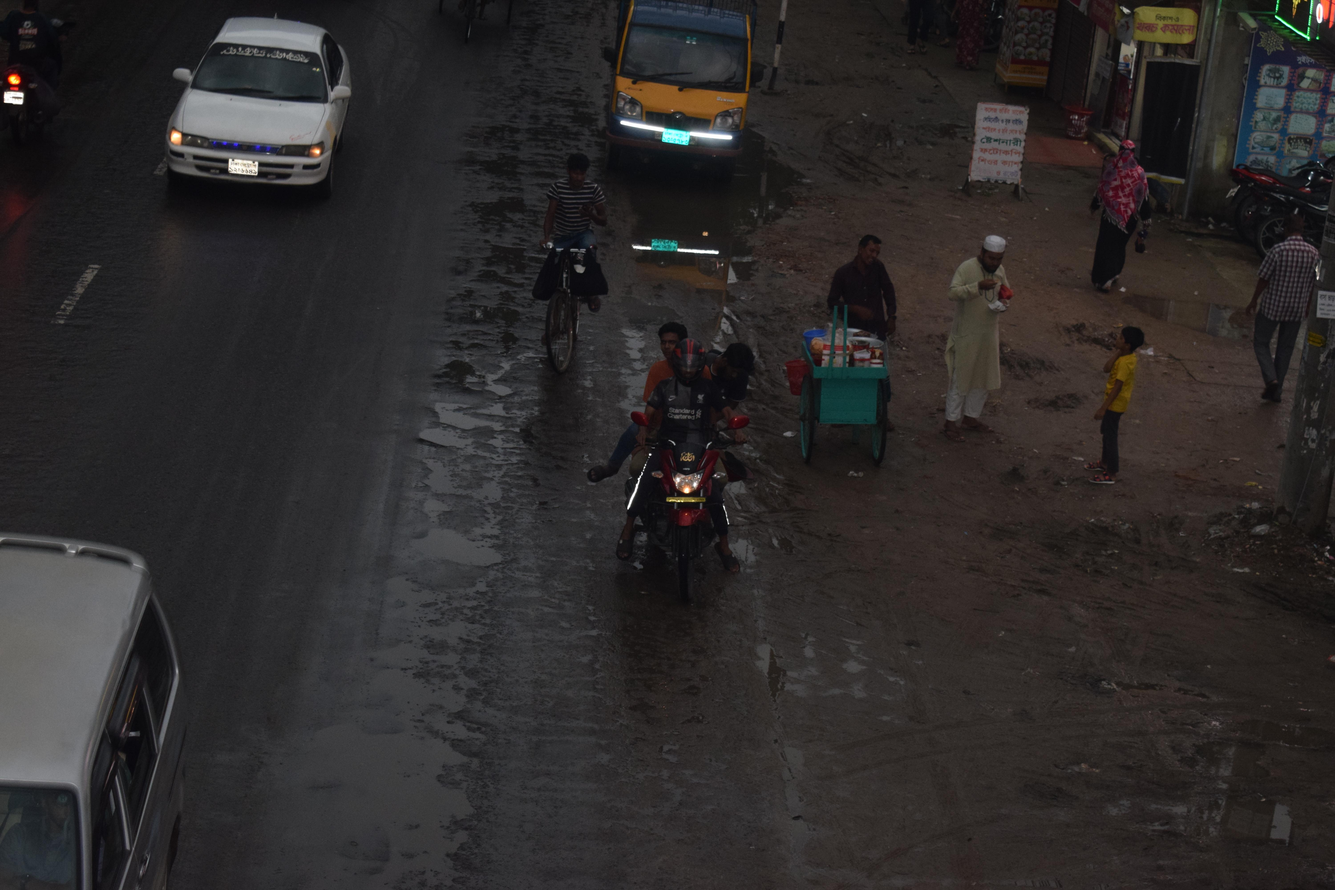Bike: (569, 284, 790, 635)
Car: (0, 492, 243, 890), (134, 10, 384, 242)
Truck: (581, 0, 790, 193)
